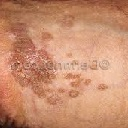Wart: (12, 28, 55, 92)
